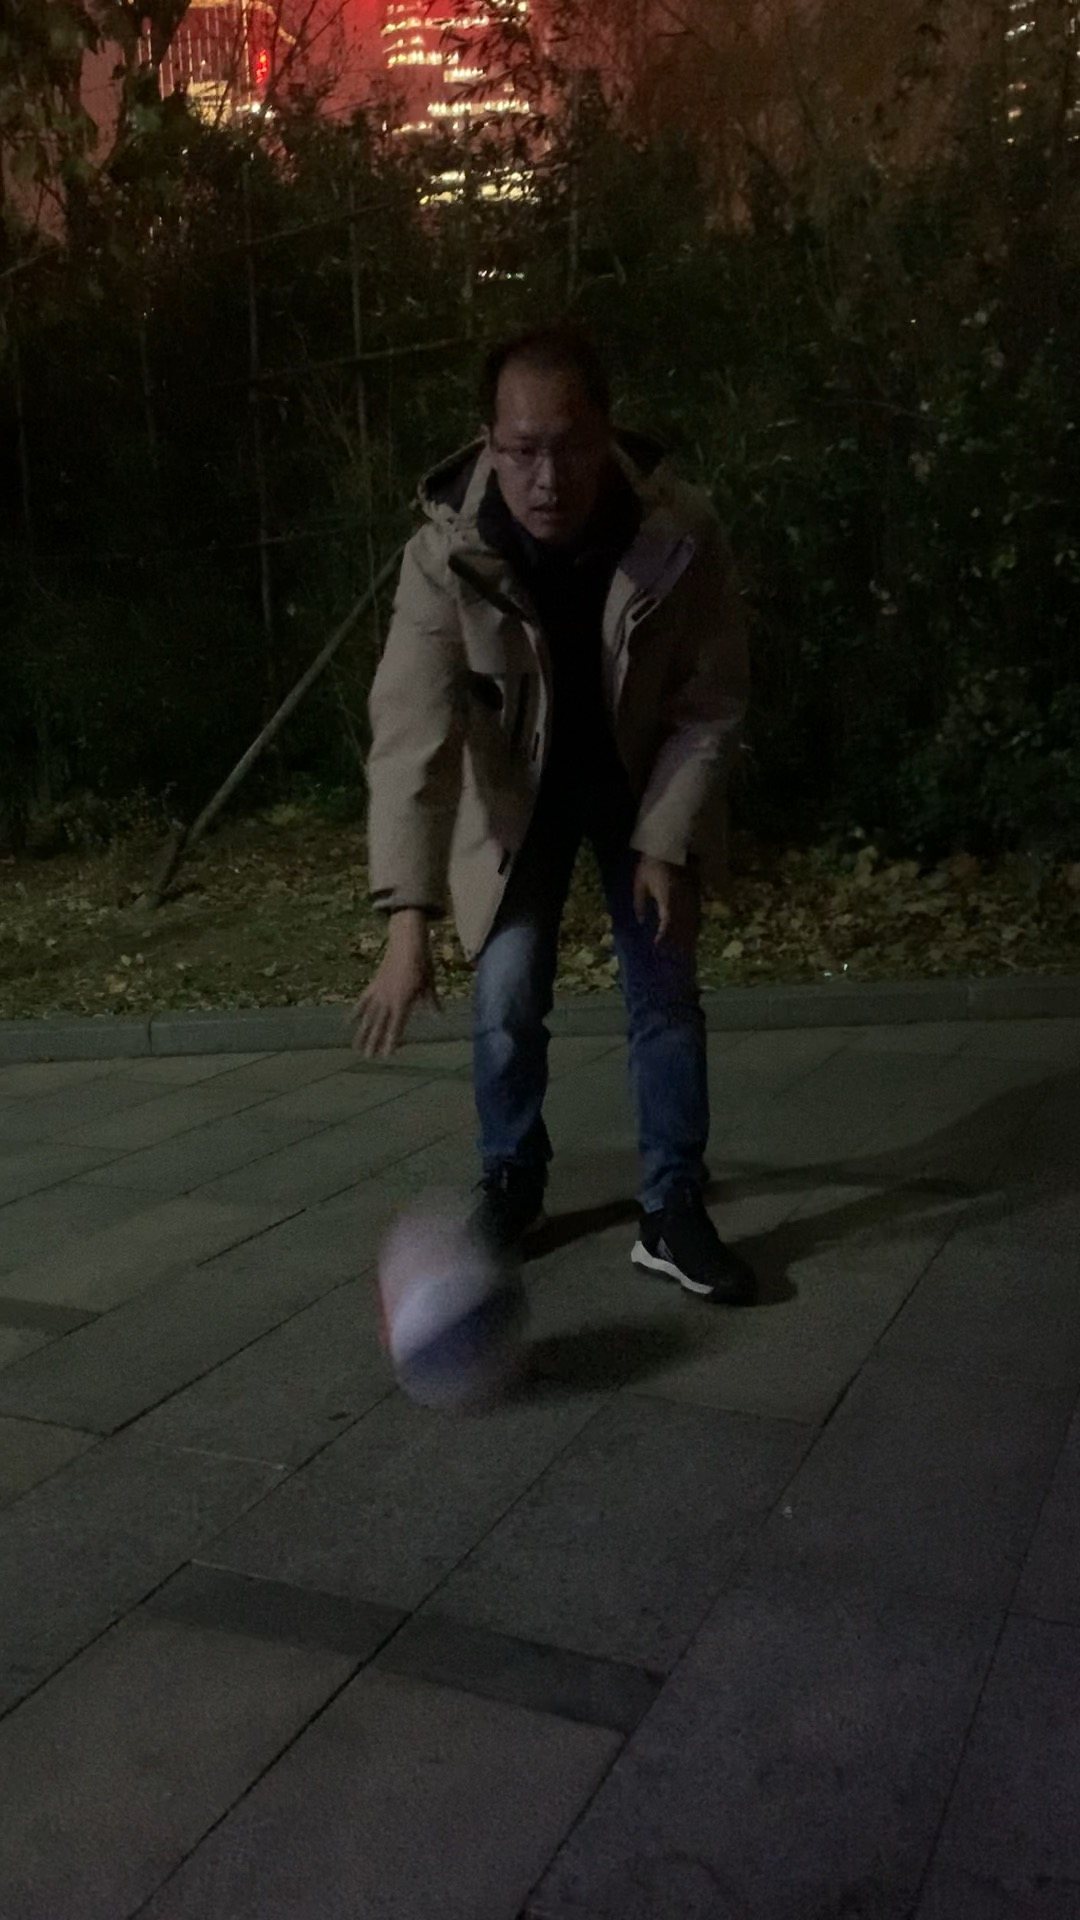ball: (381, 1265, 546, 1422)
